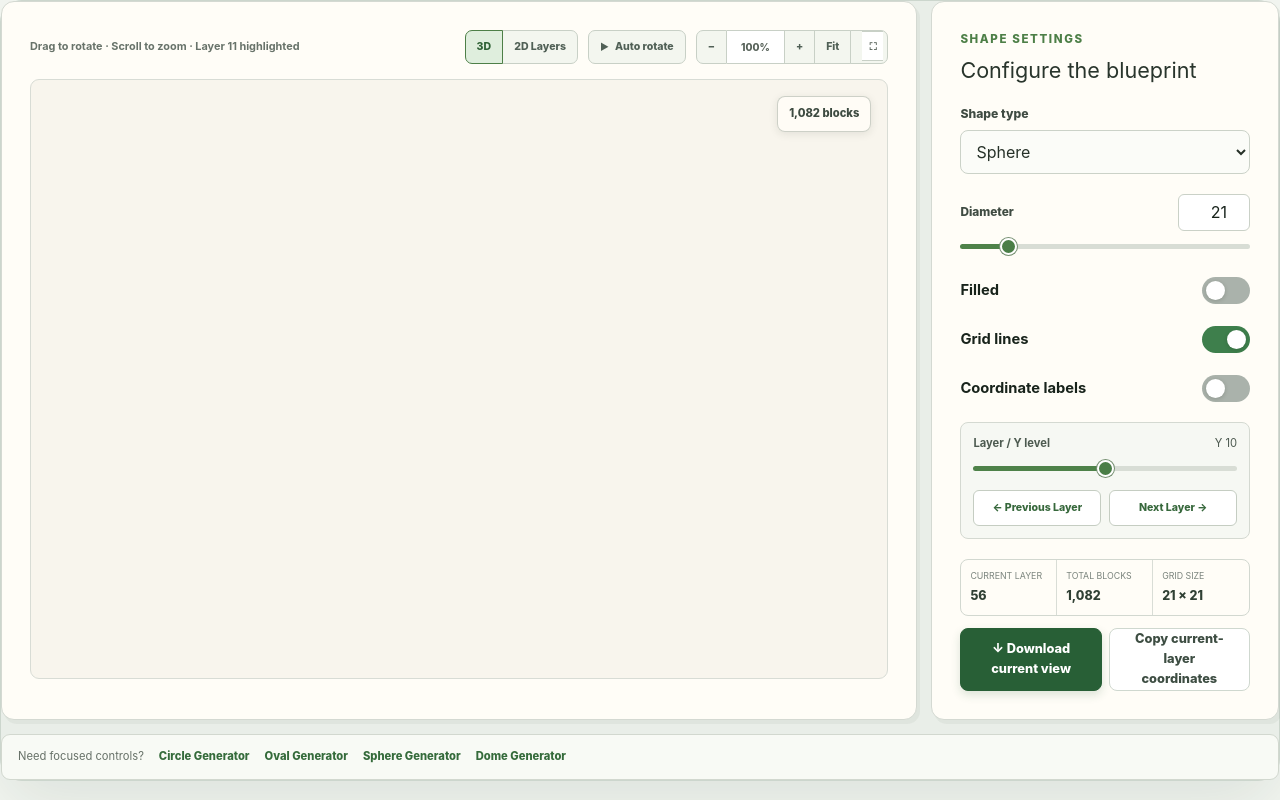
Test case: ShapeGenerator preview › lets mobile users replace a multi-digit dimension without clamping the first digit
Clear the number field labelled "Diameter": [1214, 213] box [1178,194,1250,231]
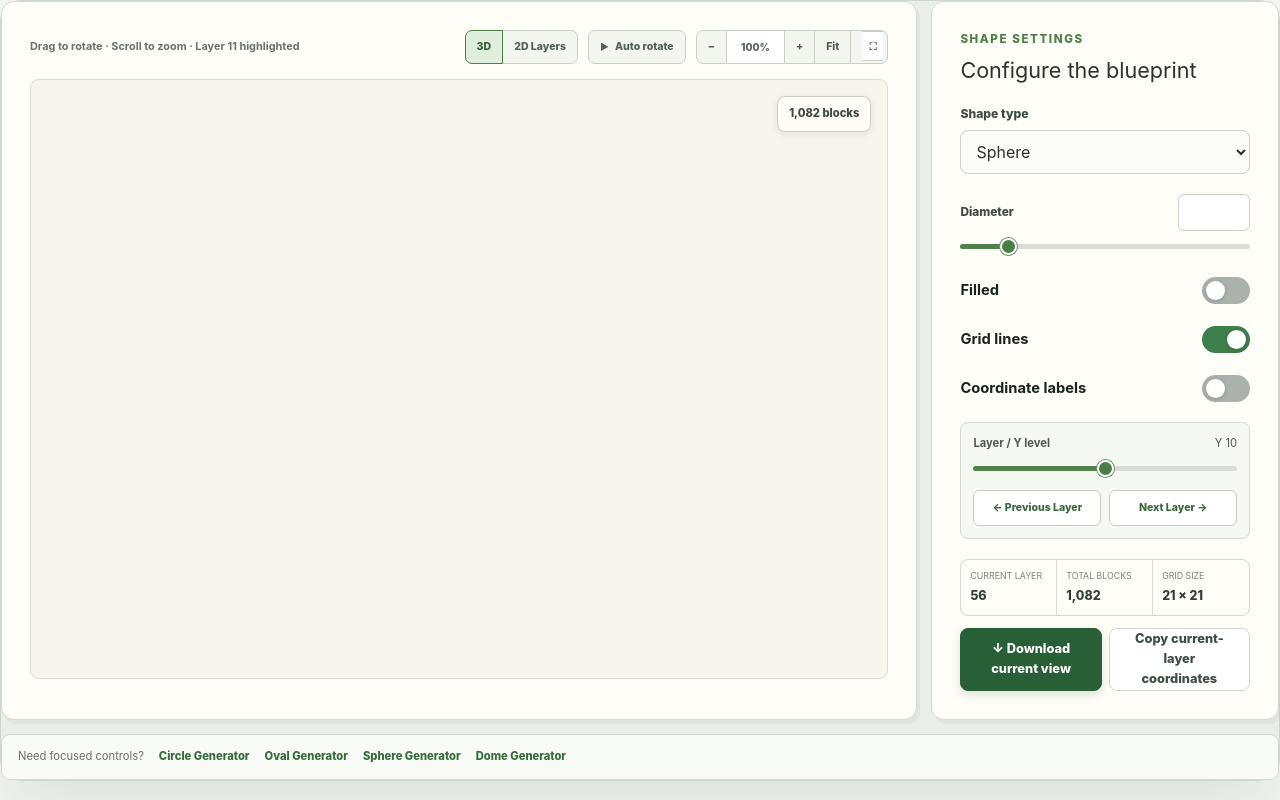
In the number field labelled "Diameter": [1214, 213] box [1178,194,1250,231], type "101"
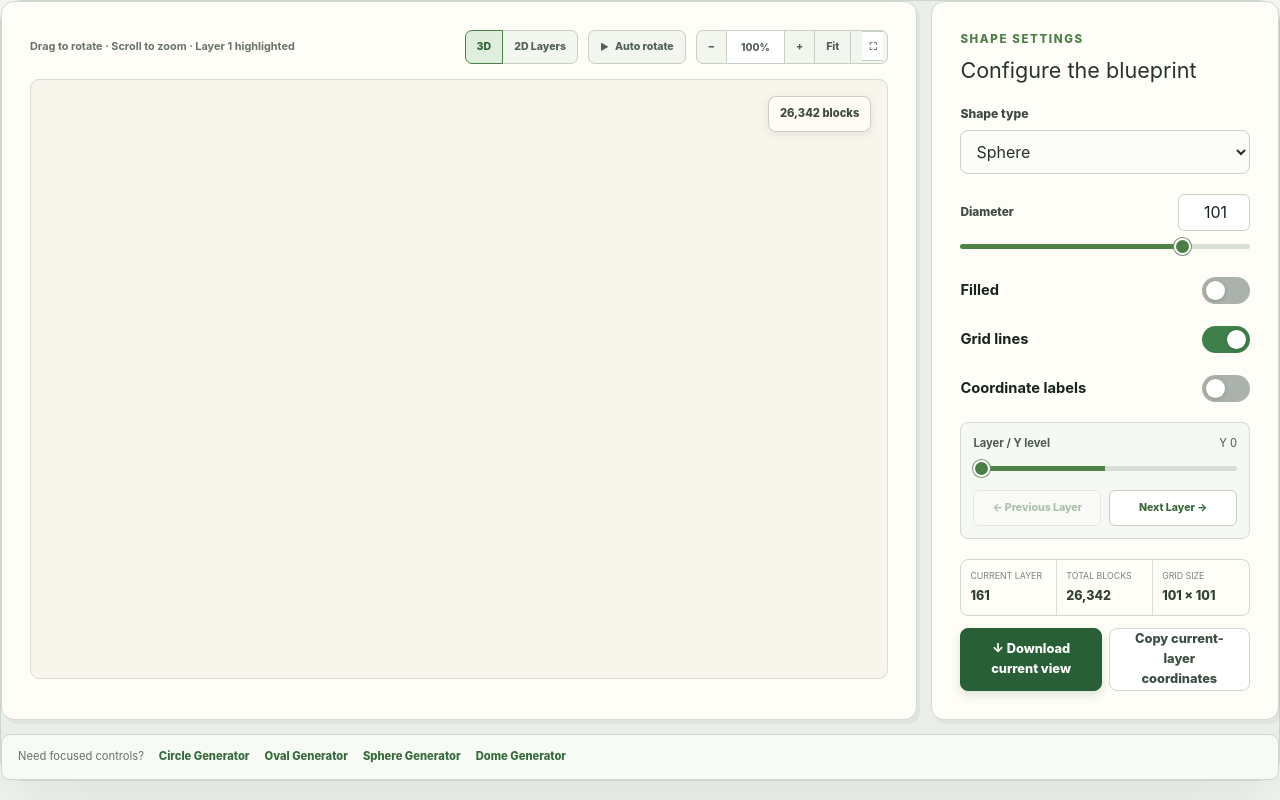
expect the slider named "Diameter slider" holds "101": met, box [960,244,1250,249]
